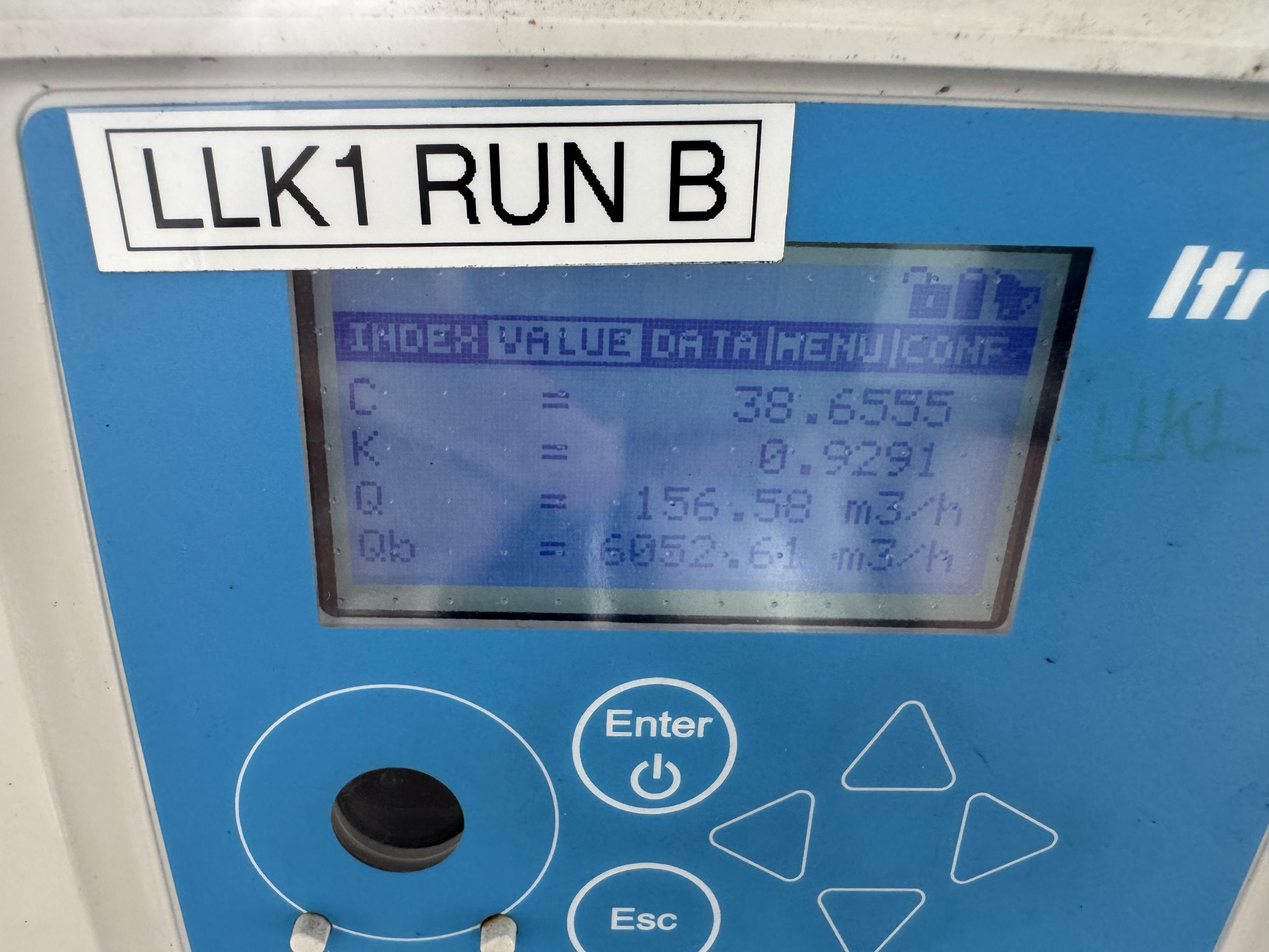digital_screen: (284, 239, 1096, 631)
